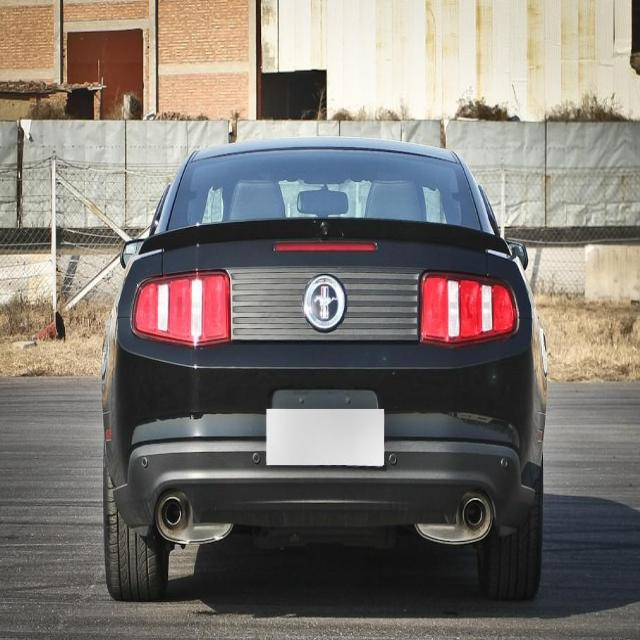back_glass: (166, 144, 485, 234)
back_left_side_light: (132, 267, 232, 353)
back_right_side_light: (418, 270, 519, 351)
front_left_side_mirror: (118, 236, 144, 269)
rear_bumper: (107, 318, 546, 531)
